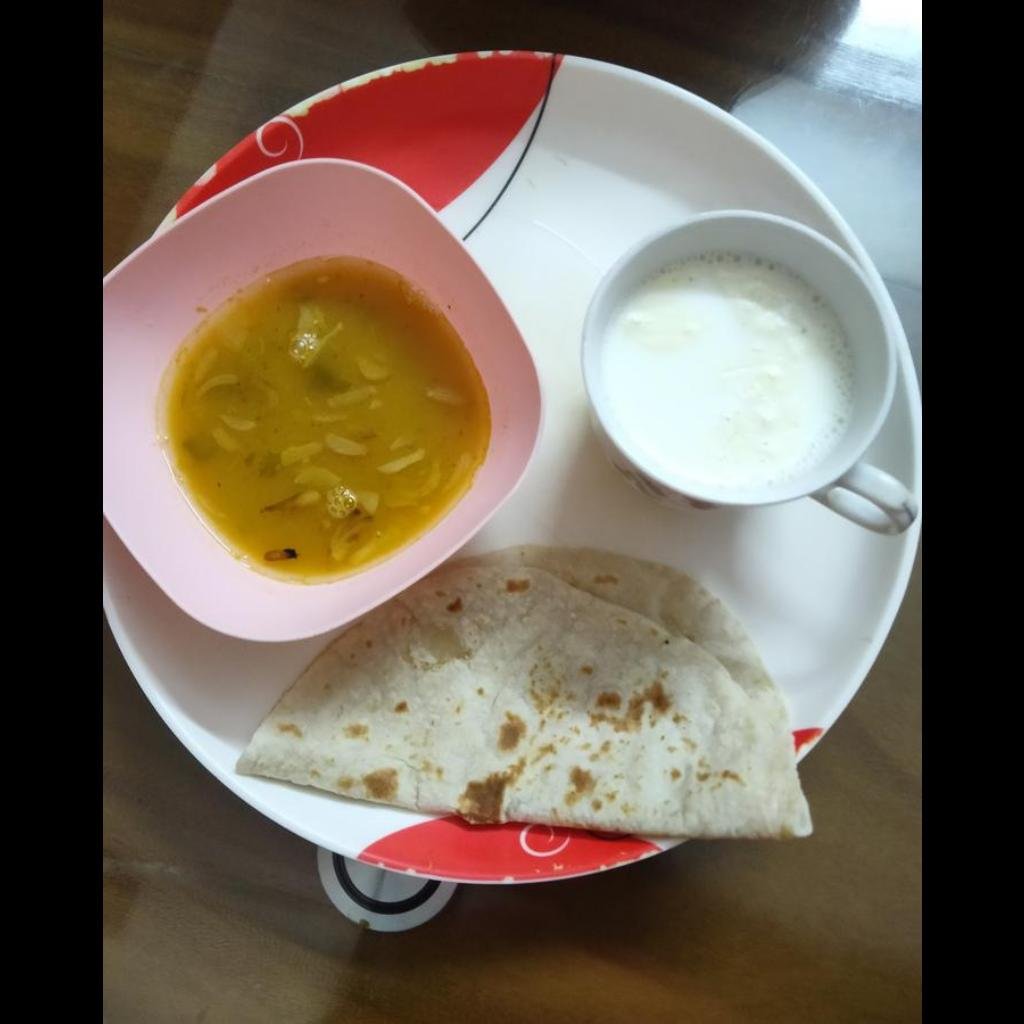daal: (158, 260, 492, 584)
milk: (603, 262, 850, 489)
ruti: (228, 545, 810, 839)
